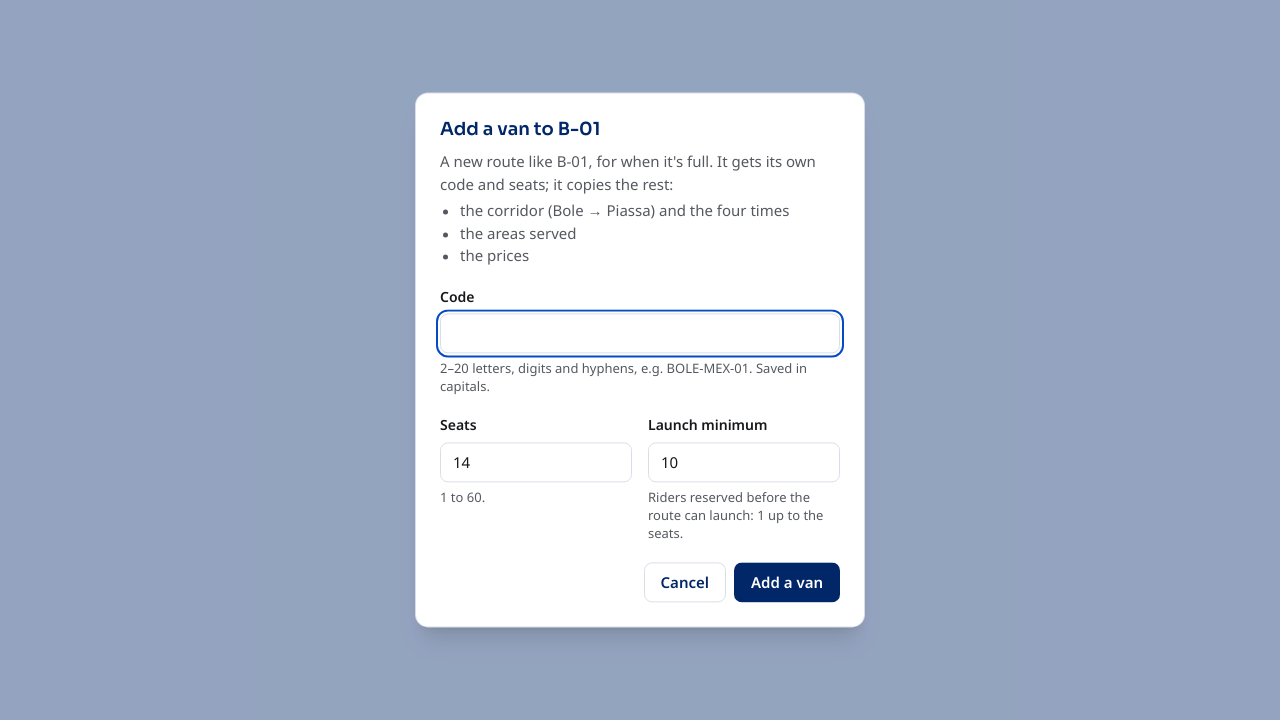
Test: RouteVanDialog › explains a taken code on the code field
The image size is (1280, 720).
Type "B-02" into the field labelled "Code" at (640, 333), box [440,313,840,353]
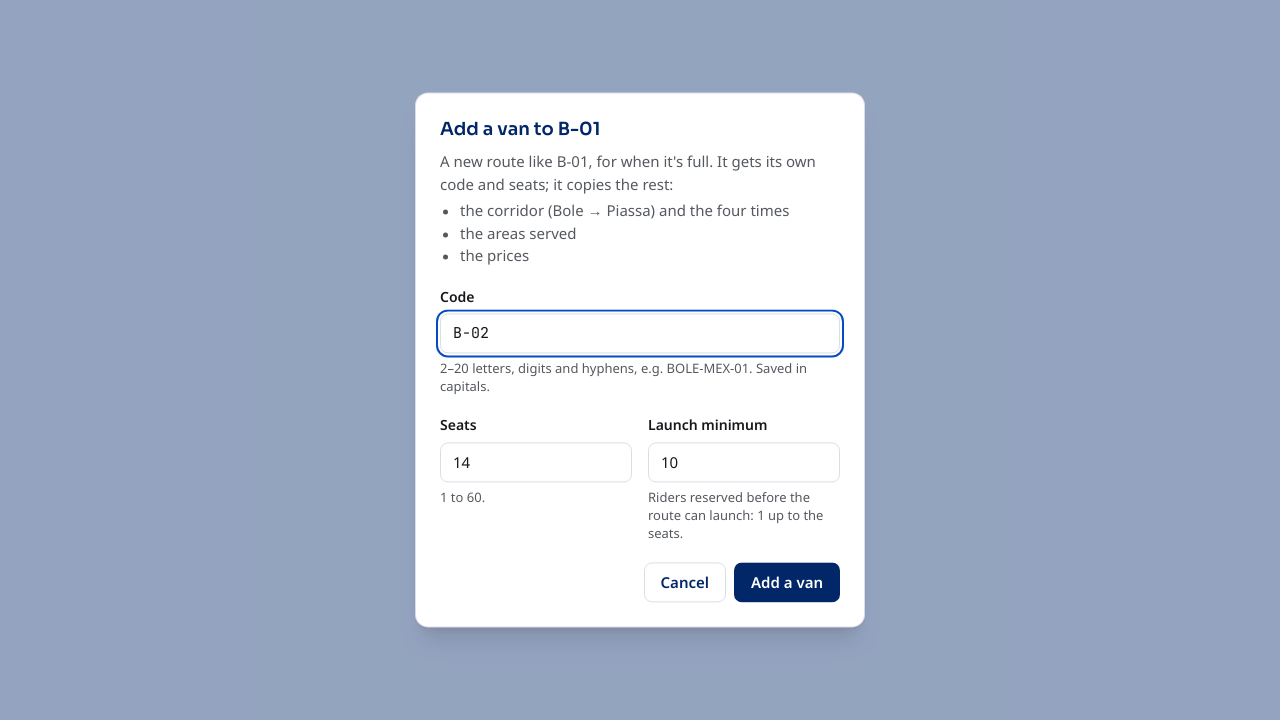
Click the button "Add a van" at (787, 583), box [734,563,840,603]
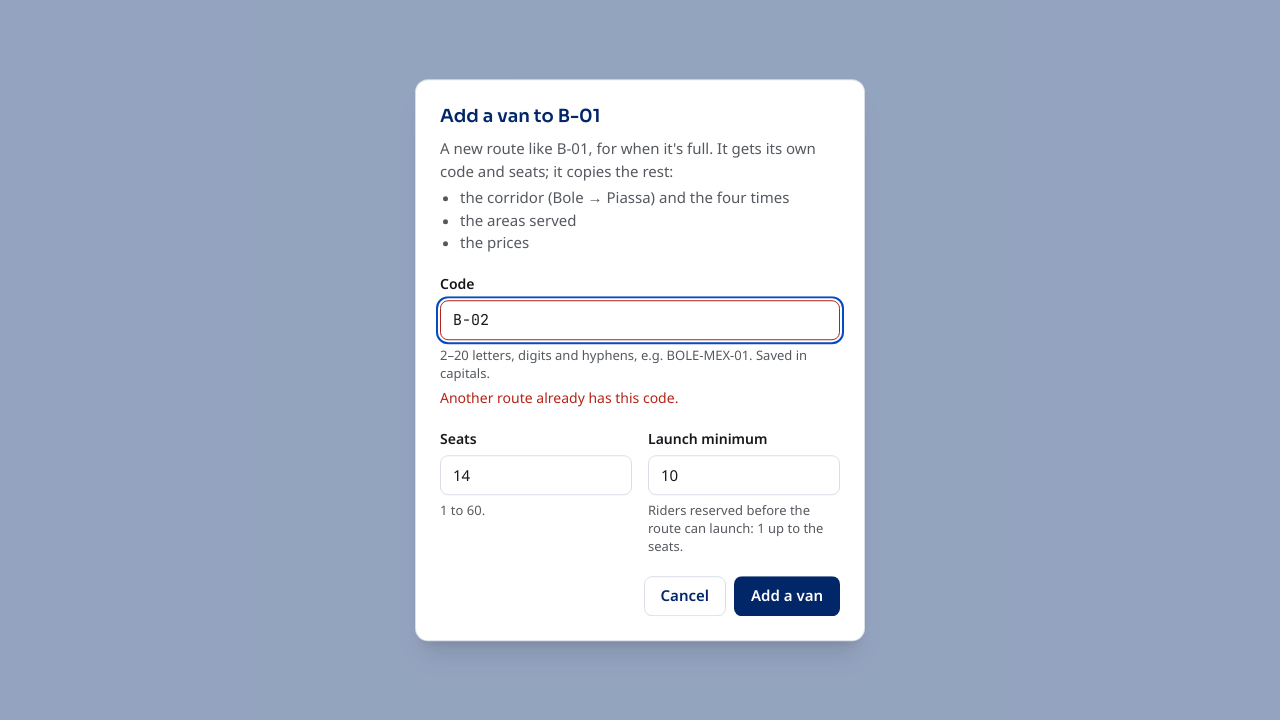
Check: the field labelled "Code" is marked as invalid, box [440,300,840,340]
